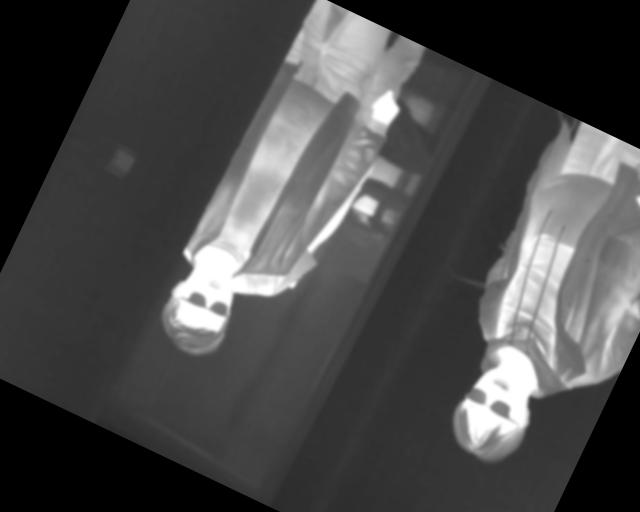face: (439, 355, 548, 475), (151, 248, 250, 360)
